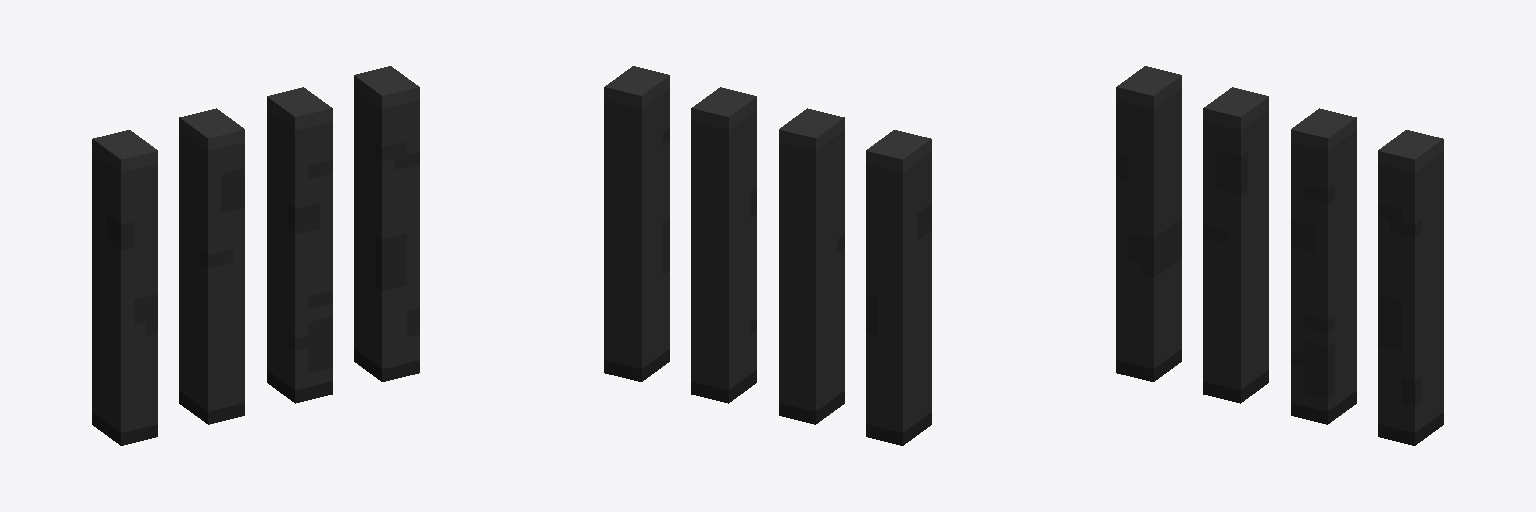
The picture shows the model from 3 angles: view 1: azimuth 30°, elevation 25°; view 2: azimuth 150°, elevation 25°; view 3: azimuth 330°, elevation 25°; orthographic projection.
Parts seen in each view (by area): view 1: object 1; view 2: object 1; view 3: object 1.
Boxes of the visible parts, x1,y1,x2,y2 form: object 1: [92, 66, 419, 445]; object 1: [604, 66, 931, 445]; object 1: [1116, 66, 1443, 445].
Size of the model in its own units: 2.4 by 2.2 by 0.4.
1 materials, 1 textured.